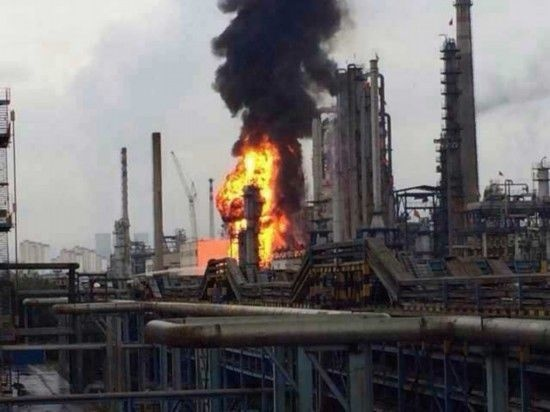fire: (216, 139, 288, 262)
